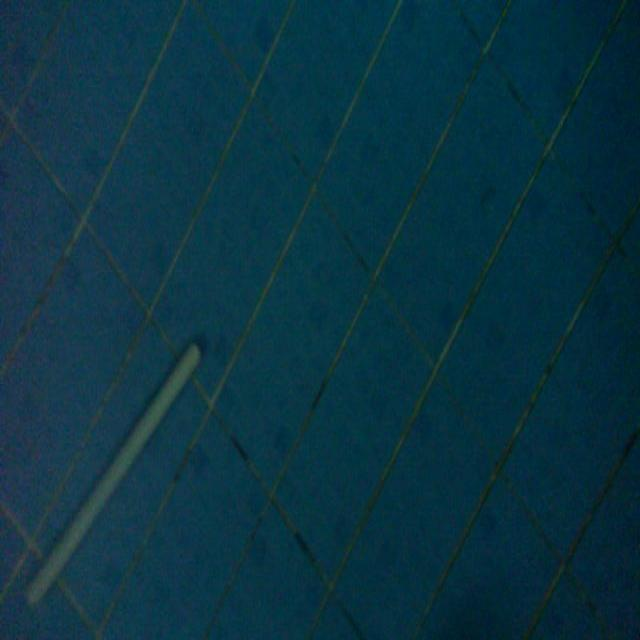Cube: (23, 334, 204, 610)
